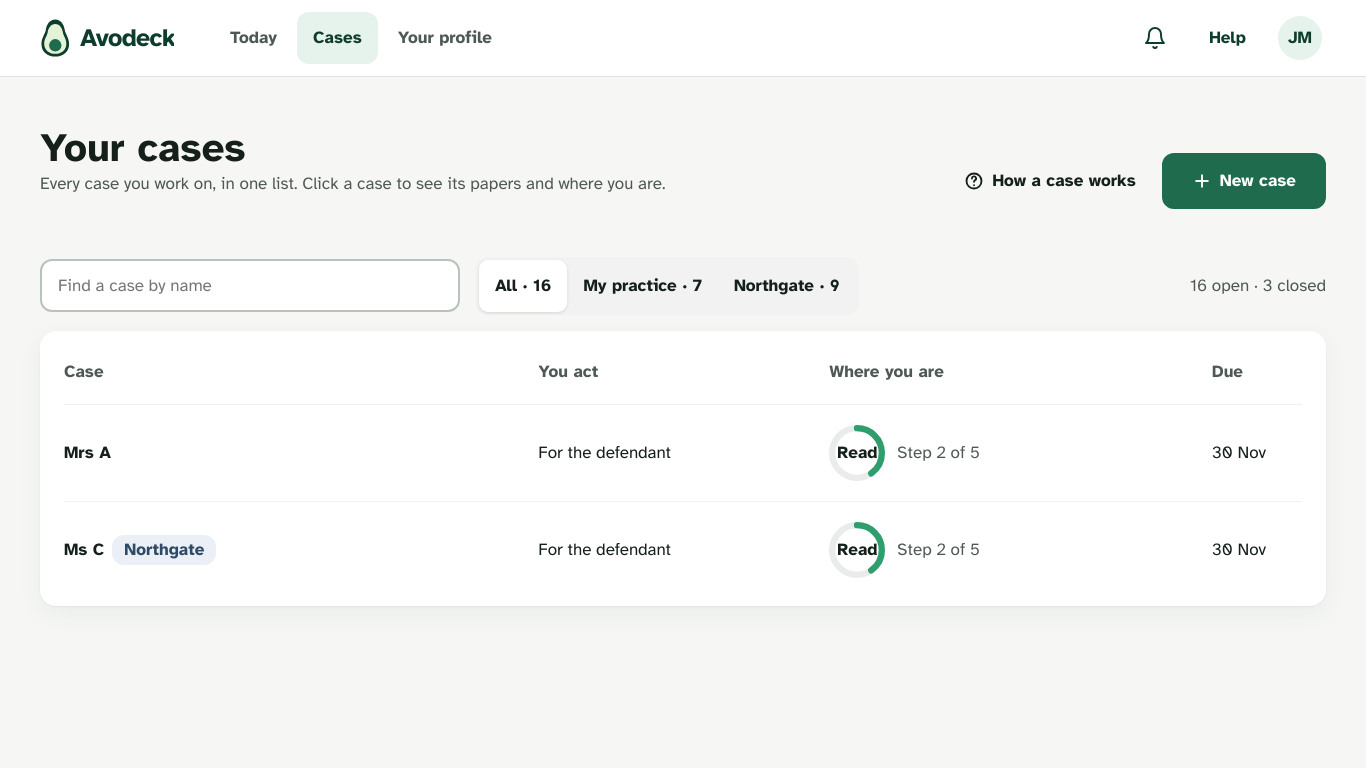
Test: typing in the search box sends q to the server after a short pause
Type "zz" into the search field labelled "Find a case by name".
click(250, 286); type("zz")  # box [40,259,460,312]
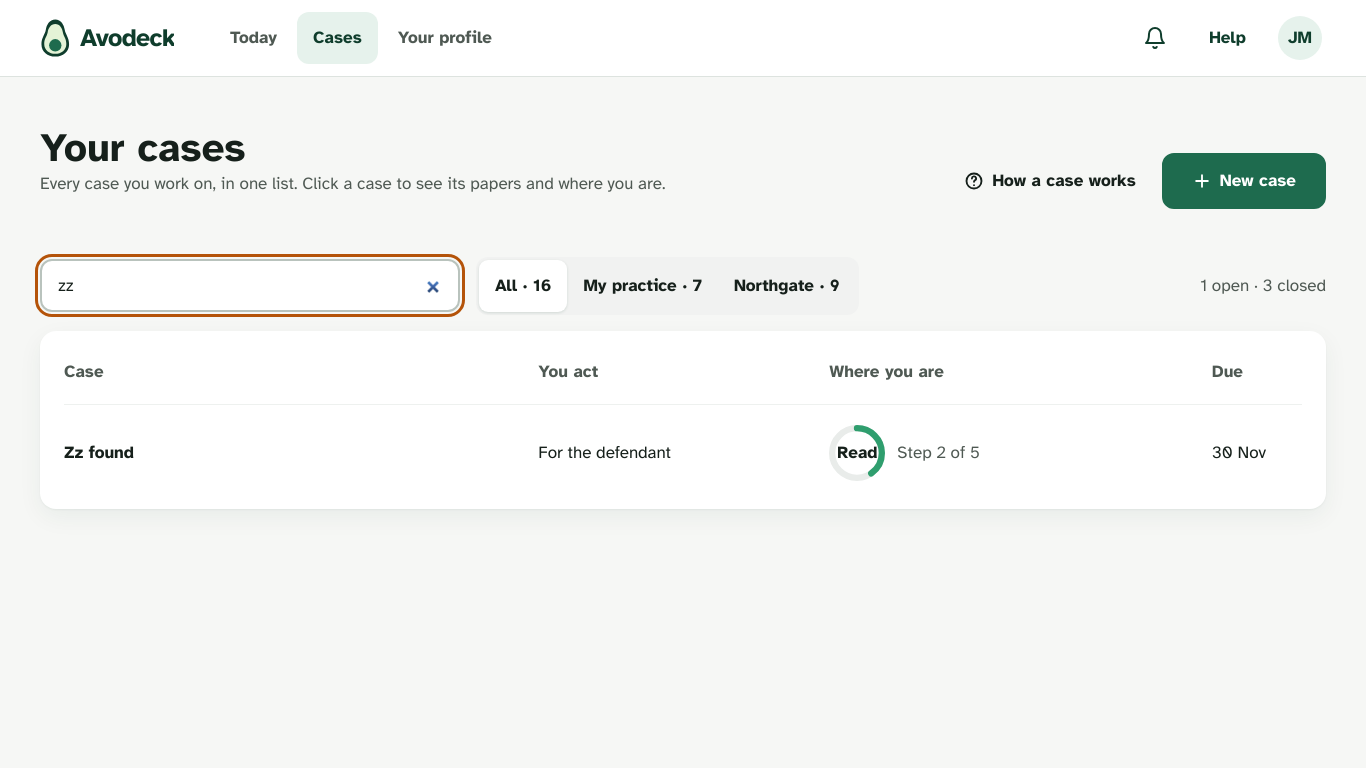
Result: the link "Zz found For the defendant Read Step 2 of 5 30 Nov" is shown at [64,404,1302,501]
Result: the text "1 open · 3 closed" is shown at [1200,273,1326,298]
